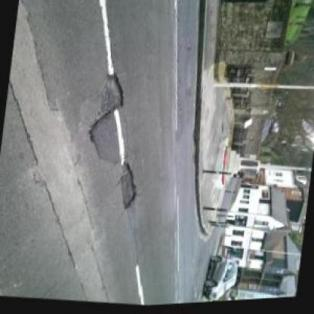Hueco: (100, 72, 130, 117), (114, 165, 141, 214)
